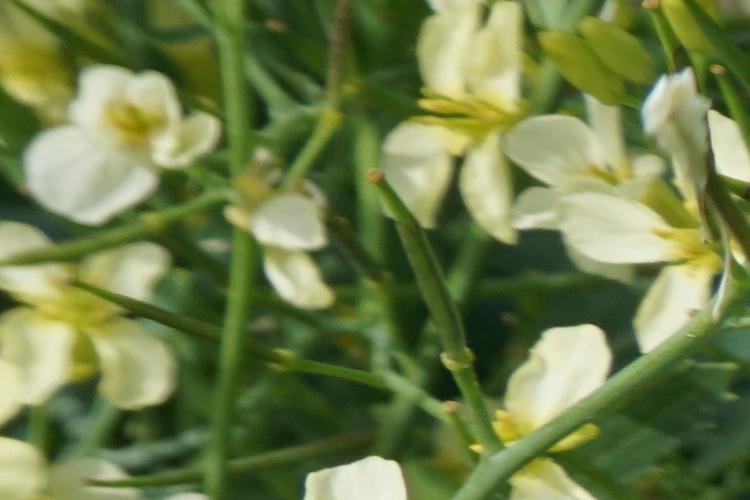bud: (549, 15, 617, 111), (579, 12, 664, 76)
pod: (352, 164, 474, 350), (40, 257, 249, 347)
white: (20, 225, 198, 430), (432, 323, 624, 496), (395, 27, 535, 227), (44, 60, 214, 223), (532, 125, 693, 259), (193, 161, 339, 296)
